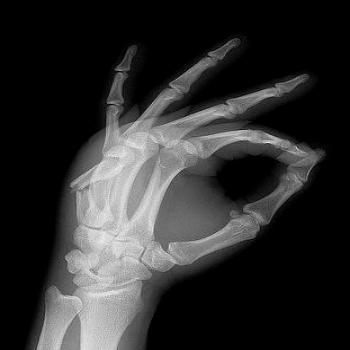Fracture: (63, 174, 92, 202)
